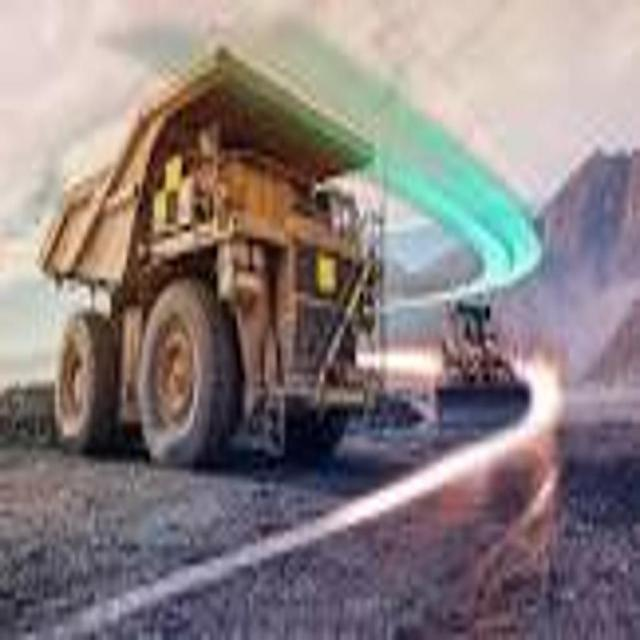dump_truck: (34, 51, 392, 486)
